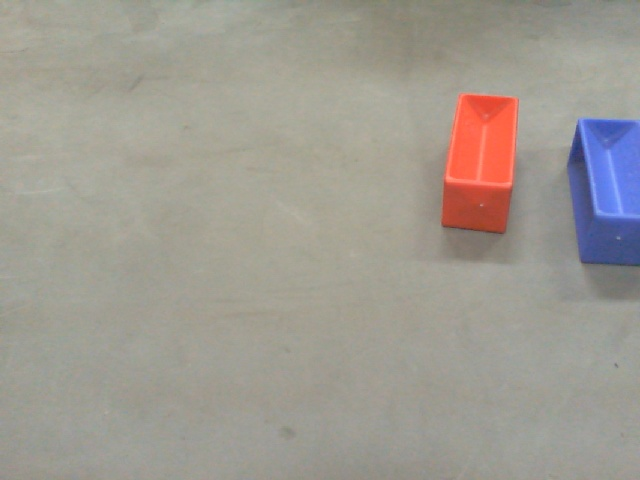BlueSample: (562, 114, 640, 271)
RedSample: (440, 88, 523, 235)
